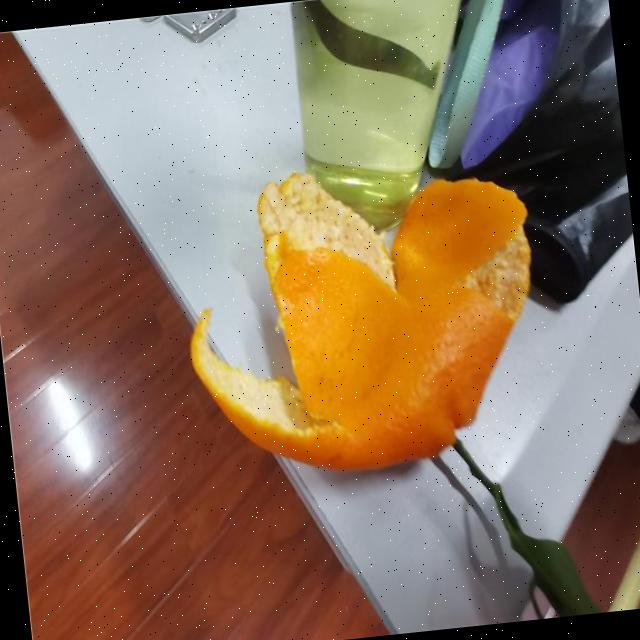orange-peel: (170, 150, 553, 488)
